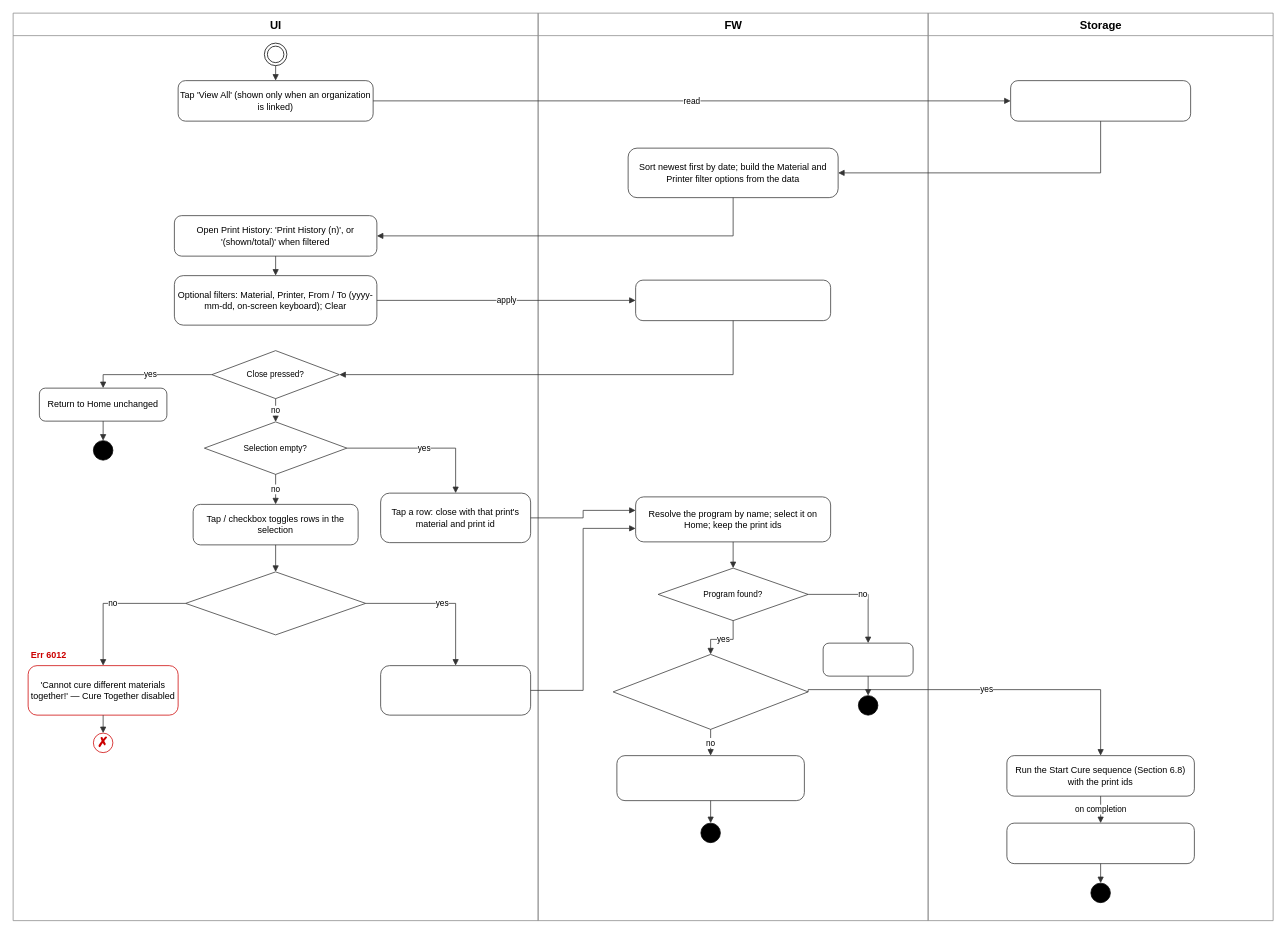
The diagram is 1286 pixels wide and 934 high, and some of its shapes have lost their labels. Each missing label, with the centre of its shape:
'Ready to cure [N×] material' — press Cure Together: pixel 455 690
2 or more prints and Start Cure gates open?: pixel 710 691
All selected prints the same material?: pixel 275 603
Apply filters (AND; To includes the whole day); the selection is kept: pixel 733 300
Nothing selected: pixel 867 659
Program selected on Home only; a later Start Cure carries the print ids: pixel 710 778
Read the prints of the same store whose material matches a program: pixel 1100 100
When the cure completes: remove those print rows from the history: pixel 1100 843
